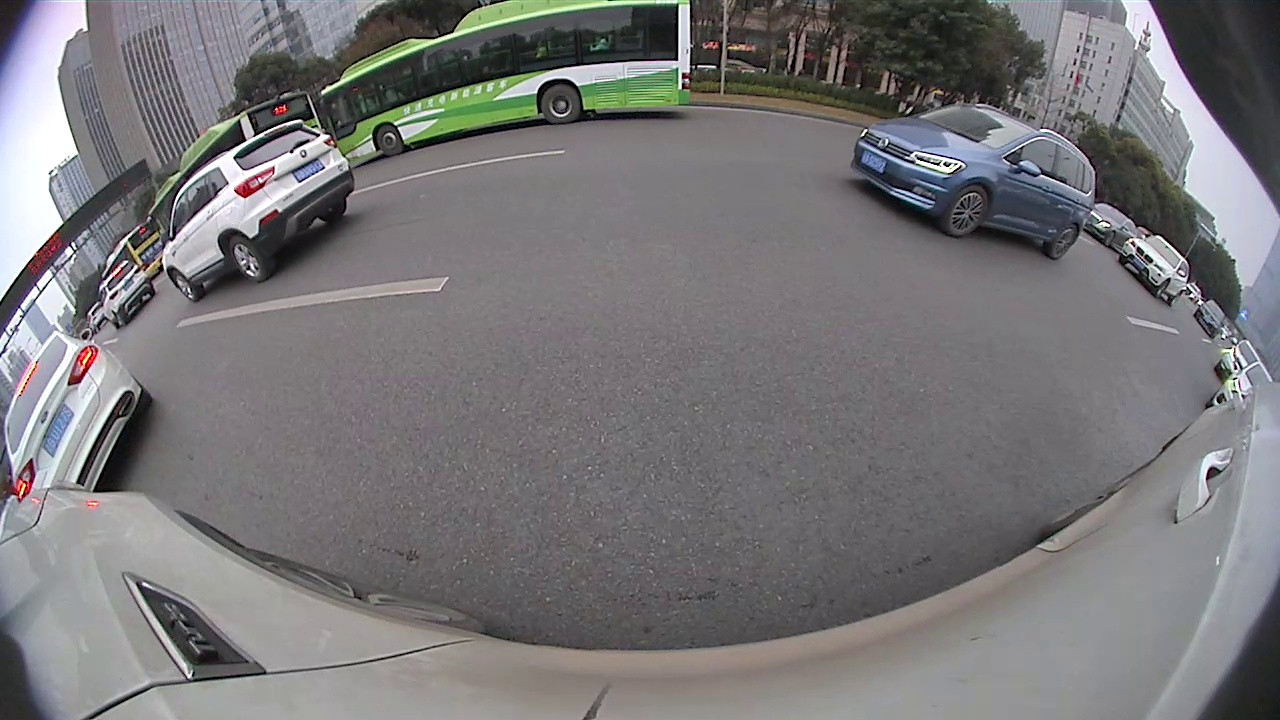bus: (317, 2, 697, 168)
car: (849, 99, 1096, 260), (158, 116, 355, 306), (7, 330, 154, 498), (1123, 231, 1191, 303)
front: (942, 183, 991, 237), (169, 268, 199, 304), (376, 122, 405, 158)
rear: (228, 233, 268, 286), (538, 81, 584, 124), (1047, 220, 1081, 260)
